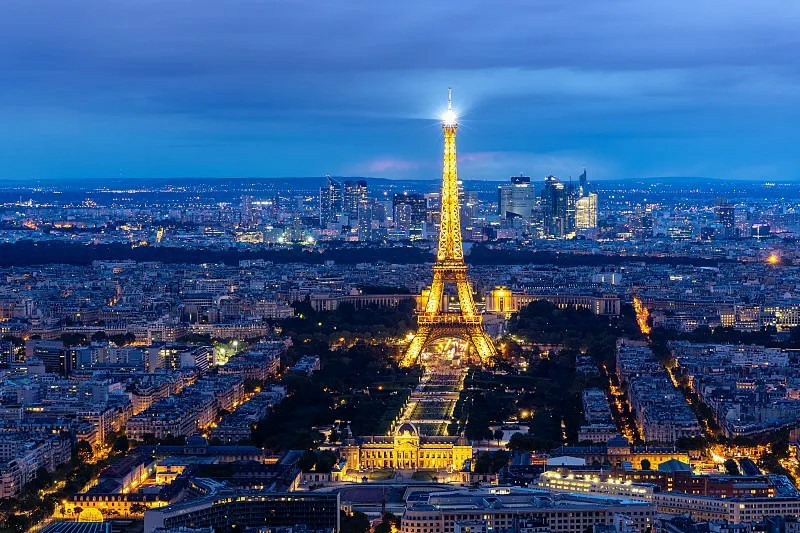Eiffel: (397, 86, 497, 372)
